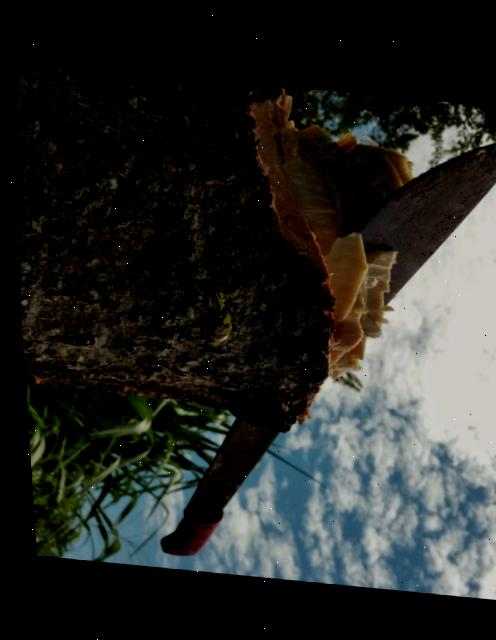long knife: (105, 89, 496, 594)
